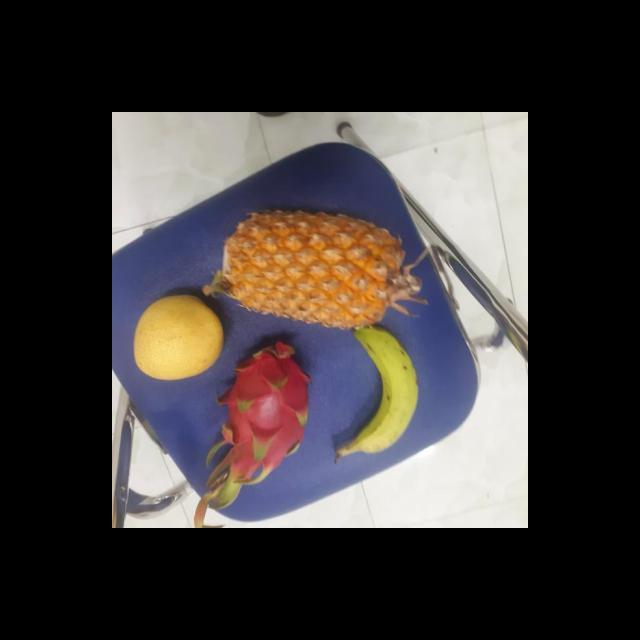banana: (336, 328, 426, 457)
pear: (133, 294, 228, 383)
pineapple: (214, 208, 416, 325)
pitaya: (213, 344, 315, 478)
